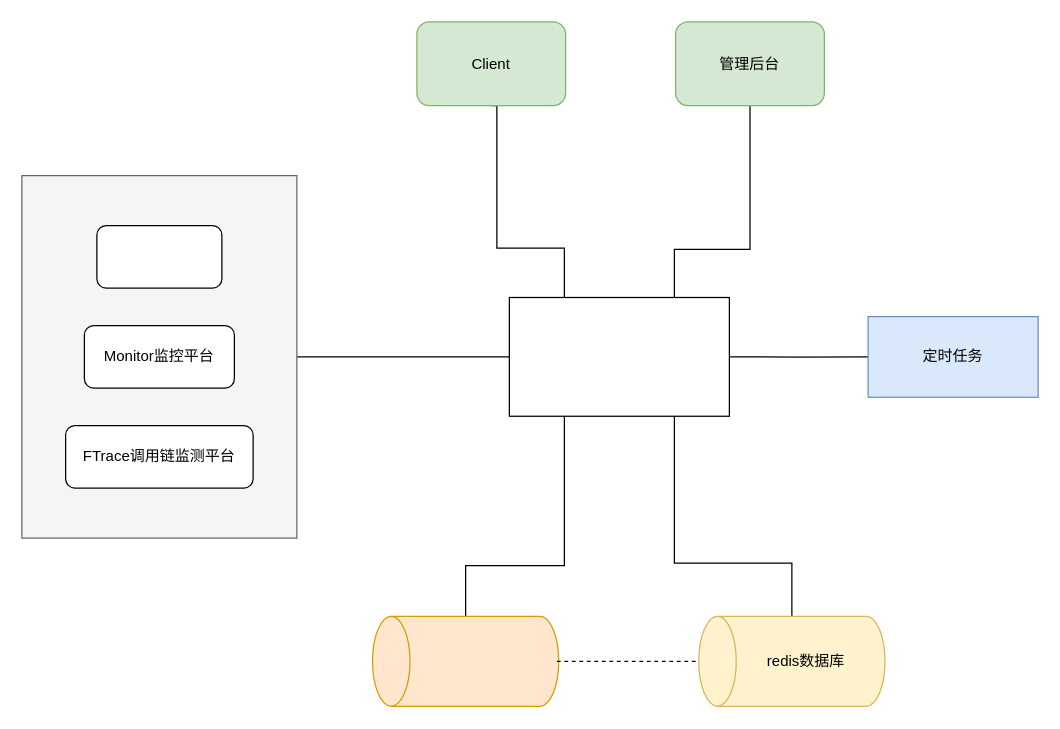
Image size: 1060x729. Some labels were removed from this diagram. Here are the shapes that lost their labels. From the top down, the centre of each, then its label:
At (x=159, y=256): "FLS日志平台".
At (x=618, y=356): "用户资料管理系统".
At (x=465, y=660): "mysql数据库".
